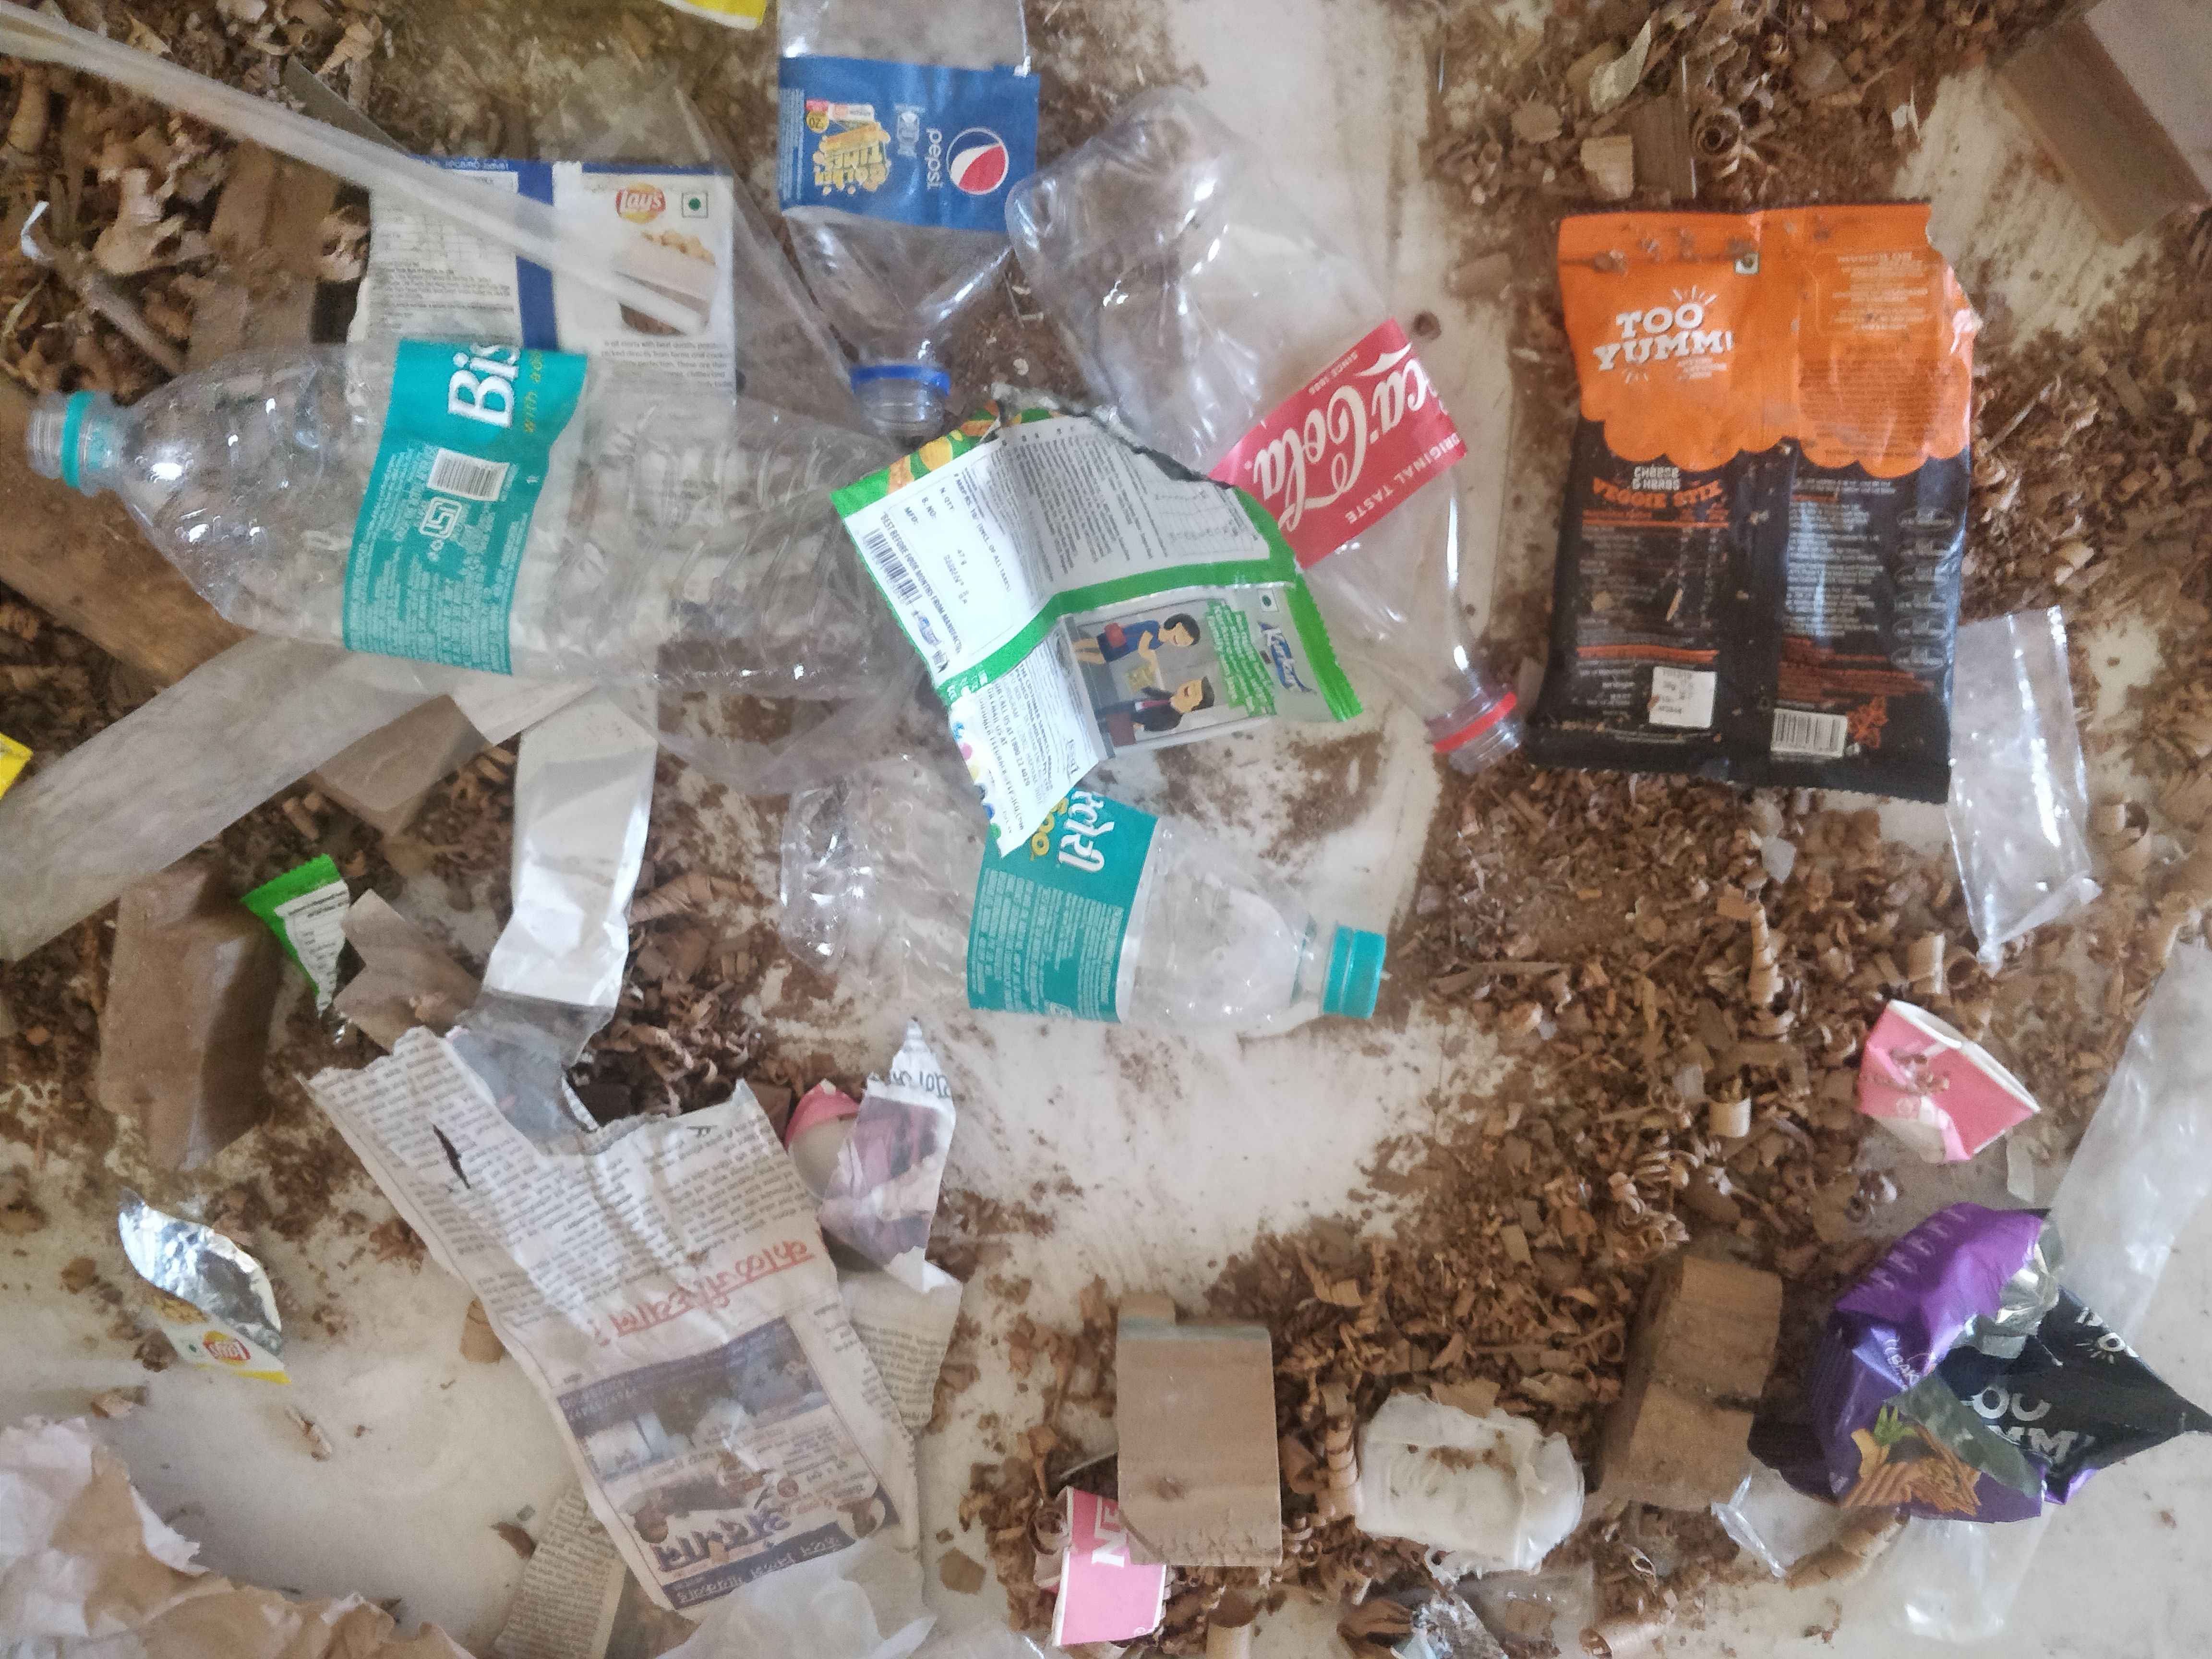Bisleri: (381, 333, 557, 598), (1022, 782, 1130, 946)
Coca-Cola: (1254, 362, 1444, 540)
Lays: (585, 171, 693, 237)
kurkure: (1240, 606, 1325, 714)
pepsi: (895, 110, 1022, 199)
tooyumm: (1874, 1337, 2087, 1483), (1581, 267, 1759, 401)
